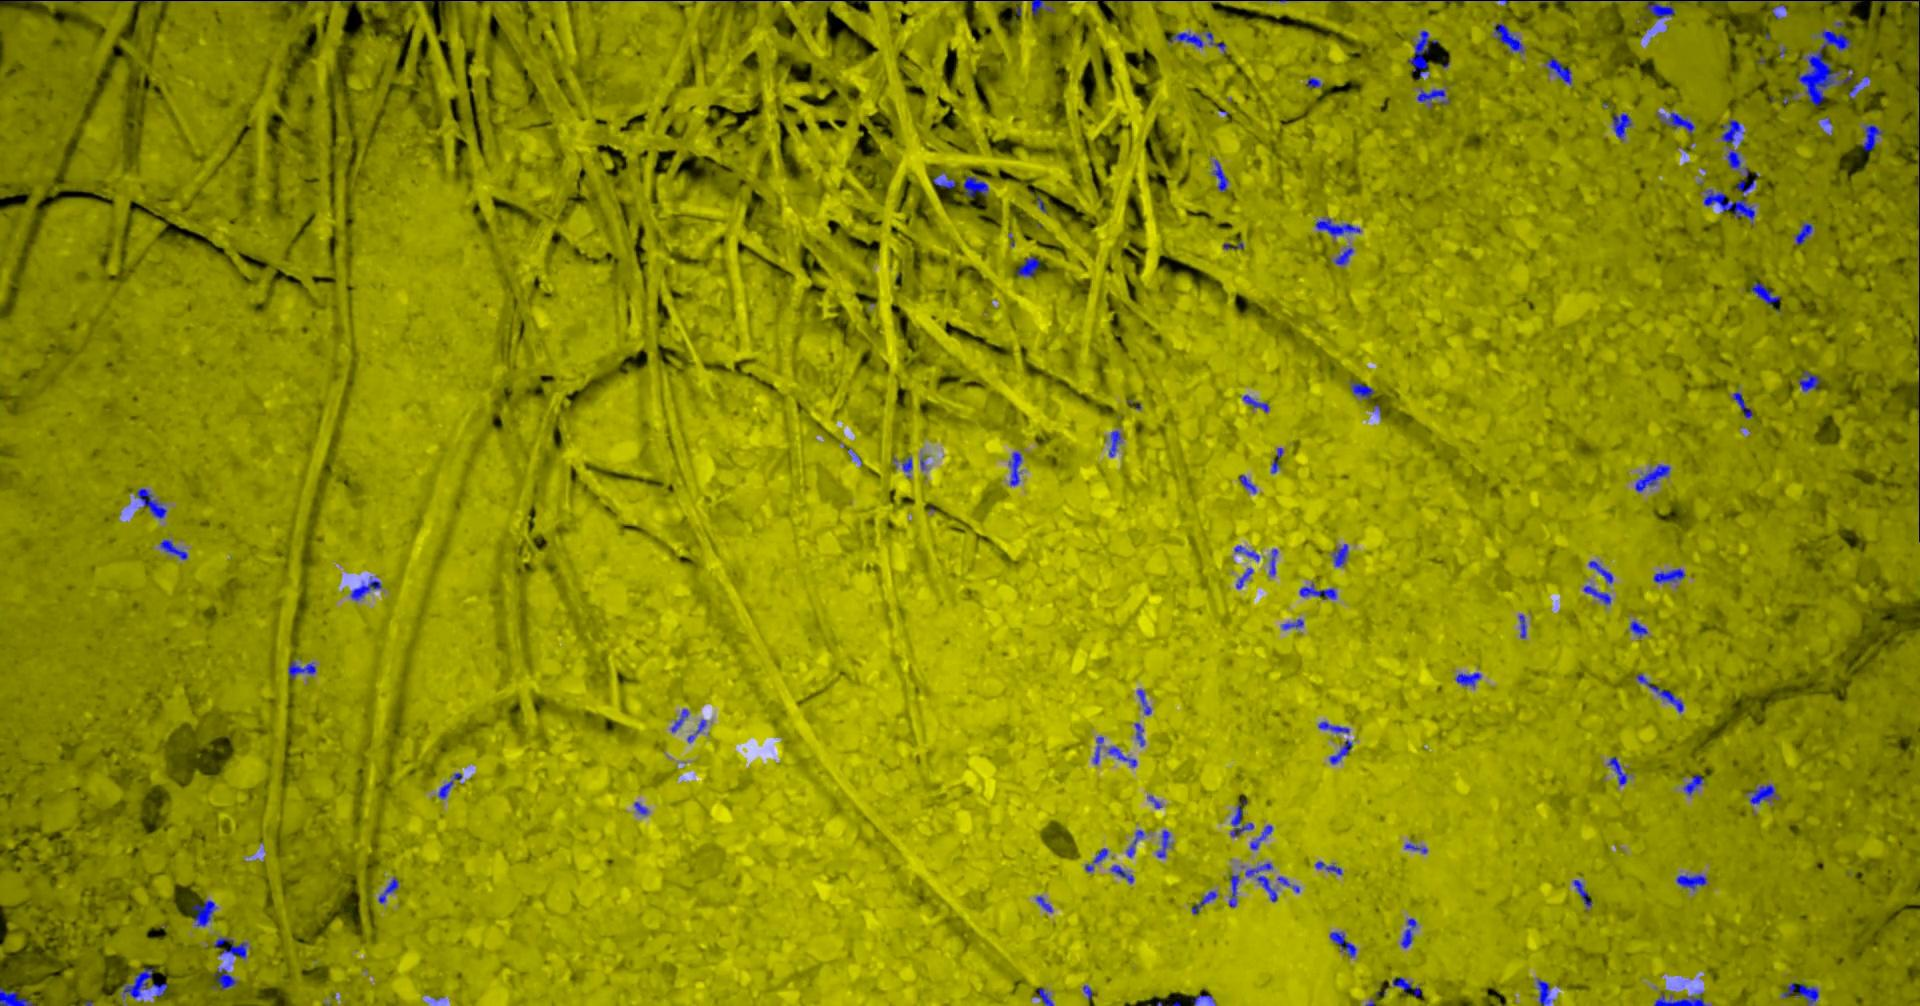ant: (1636, 673, 1683, 713), (1703, 189, 1754, 225), (122, 967, 168, 997), (1407, 30, 1436, 76), (1244, 862, 1277, 901), (1634, 464, 1669, 492), (136, 488, 166, 518), (1493, 23, 1523, 53), (1314, 218, 1360, 238), (1230, 799, 1253, 836), (1782, 982, 1818, 1005), (1656, 112, 1694, 133), (213, 936, 248, 959), (1644, 0, 1686, 18), (1750, 281, 1779, 306), (350, 575, 381, 600), (1545, 56, 1571, 84), (1653, 992, 1708, 1005), (190, 899, 216, 926), (1330, 931, 1356, 956), (1724, 149, 1749, 177), (1299, 582, 1336, 600), (1719, 119, 1743, 146), (0, 986, 33, 1005), (438, 772, 462, 798), (1191, 890, 1217, 915), (1860, 123, 1882, 151), (1107, 746, 1137, 766), (1573, 879, 1592, 909), (211, 967, 236, 989), (159, 539, 187, 559), (1749, 782, 1777, 803), (1392, 976, 1420, 996), (1168, 30, 1203, 47), (1416, 89, 1448, 107), (1330, 739, 1352, 763), (1250, 824, 1272, 848), (963, 175, 988, 197), (377, 876, 397, 903), (287, 661, 315, 680), (1608, 757, 1627, 785), (1203, 30, 1225, 53), (1589, 560, 1611, 583), (1084, 848, 1107, 871), (1015, 257, 1040, 277), (1732, 391, 1752, 417), (1583, 586, 1610, 605), (1611, 113, 1630, 138), (1211, 159, 1227, 191), (1676, 874, 1705, 890), (1399, 918, 1416, 948), (1242, 394, 1269, 412), (1798, 371, 1821, 391), (1126, 829, 1143, 857), (1653, 568, 1685, 582), (1793, 222, 1812, 245), (1008, 451, 1021, 485), (1110, 864, 1133, 883), (670, 708, 688, 732), (1031, 0, 1057, 17), (1350, 380, 1373, 398), (687, 719, 705, 742), (1156, 829, 1170, 857), (1683, 774, 1702, 794), (1236, 567, 1253, 588), (1870, 0, 1919, 8), (1332, 542, 1347, 567), (1234, 545, 1258, 560), (1317, 721, 1349, 733), (1228, 874, 1239, 906), (1032, 987, 1053, 1005), (1455, 672, 1481, 686), (1137, 688, 1150, 714), (1537, 979, 1550, 1005), (1314, 861, 1341, 874), (1277, 876, 1299, 892), (1270, 447, 1283, 473), (932, 174, 955, 188), (1092, 735, 1103, 763), (1335, 246, 1352, 264), (1239, 474, 1256, 493), (1629, 620, 1647, 636), (1109, 431, 1120, 456), (1736, 179, 1755, 193), (1035, 895, 1051, 911), (1269, 547, 1277, 575), (1134, 721, 1144, 746), (1191, 995, 1215, 1005), (1281, 619, 1303, 629), (902, 457, 912, 478), (1517, 614, 1525, 638), (1305, 77, 1322, 86)
